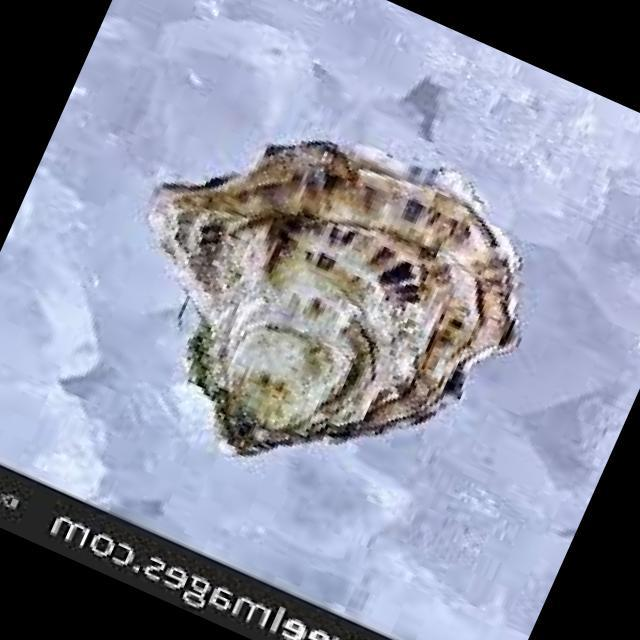Oyster- Indeterminate: (146, 141, 523, 458)
